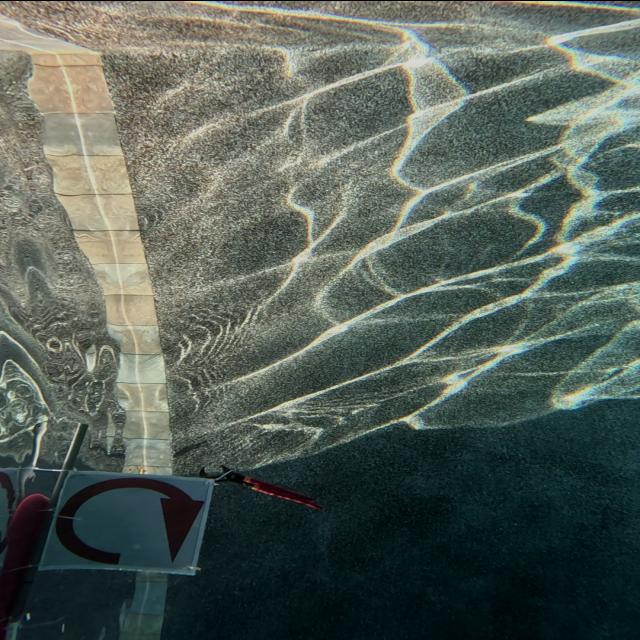red_side: (30, 472, 217, 572)
